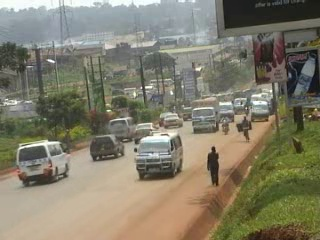Car: (85, 132, 125, 162), (133, 120, 160, 143), (156, 109, 178, 125), (162, 116, 184, 127)
Motorcycle: (218, 112, 230, 136), (241, 98, 251, 120)
